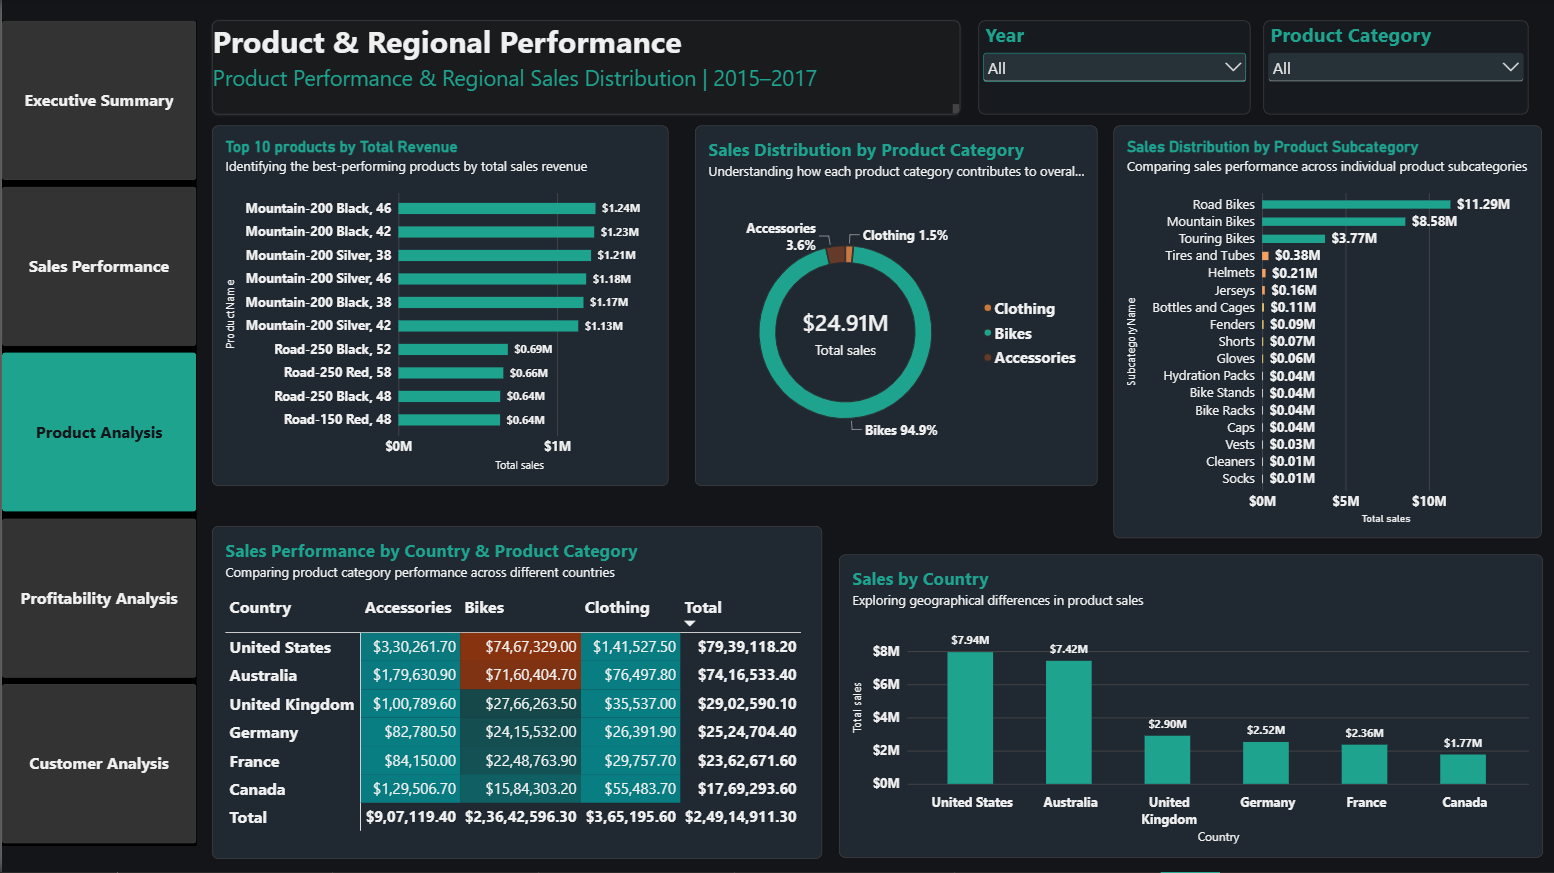

Layout of this report page (visuals, bound fields, positions):
{"tool":"powerbi","page":{"name":"Product Analysis","canvas":[1920,1080],"ordinal":2},"visuals":[{"type":"pageNavigator","box":[0,27.3,240.8,1019.8],"z":0},{"type":"clusteredBarChart","title":"Top 10 products by Total Revenue","fields":{"Category":["Products.ProductName"],"Y":["Sales.Total sales"]},"box":[259.8,158.4,564.1,445.4],"z":1000},{"type":"donutChart","title":"Sales Distribution by Product Category","fields":{"Category":["Product Categories.CategoryName"],"Y":["Sales.Total sales"]},"box":[856.1,158.4,497.3,445.4],"z":2000},{"type":"clusteredBarChart","title":"Sales Distribution by Product Subcategory","fields":{"Category":["Product Subcategories.SubcategoryName"],"Y":["Sales.Total sales"]},"box":[1373.2,158.4,529.5,509.7],"z":3000},{"type":"clusteredColumnChart","title":"Sales by Country","fields":{"Category":["Territories.Country"],"Y":["Sales.Total sales"]},"box":[1033.4,688.2,869.9,374.8],"z":4000},{"type":"pivotTable","title":"Sales Performance by Country & Product Category","fields":{"Columns":["Product Categories.CategoryName"],"Rows":["Territories.Country"],"Values":["Sales.Total sales"]},"box":[258.9,651.9,754.1,411.1],"z":5000},{"type":"slicer","title":"Year","fields":{"Values":["Calender.Year"]},"box":[1206.1,27.3,336.2,115.8],"z":6000},{"type":"slicer","title":"Product Category","fields":{"Values":["Product Categories.CategoryName"]},"box":[1558.1,27.3,327.1,115.8],"z":7000},{"type":"textbox","title":"Product & Regional Performance","box":[258.9,27.3,924.4,115.8],"z":8000}]}

Visuals, with their boxes in screenshot pixels (x1, y1, x2, y2), scaled from the page's 1920x1080 canvas onto the 1554x873 screenshot:
pageNavigator: box=[0, 22, 195, 846]
"Top 10 products by Total Revenue" clusteredBarChart: box=[210, 128, 667, 488]
"Sales Distribution by Product Category" donutChart: box=[693, 128, 1095, 488]
"Sales Distribution by Product Subcategory" clusteredBarChart: box=[1111, 128, 1540, 540]
"Sales by Country" clusteredColumnChart: box=[836, 556, 1540, 859]
"Sales Performance by Country & Product Category" pivotTable: box=[210, 527, 820, 859]
"Year" slicer: box=[976, 22, 1248, 116]
"Product Category" slicer: box=[1261, 22, 1526, 116]
"Product & Regional Performance" textbox: box=[210, 22, 958, 116]
